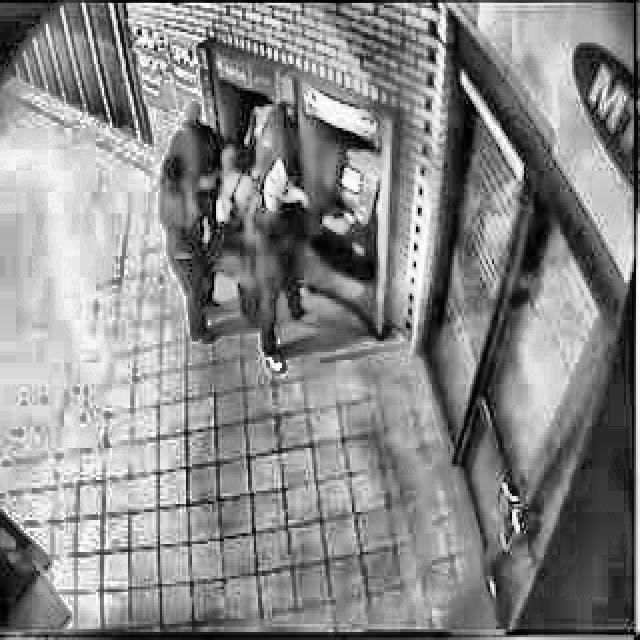burglary: (152, 92, 383, 380)
